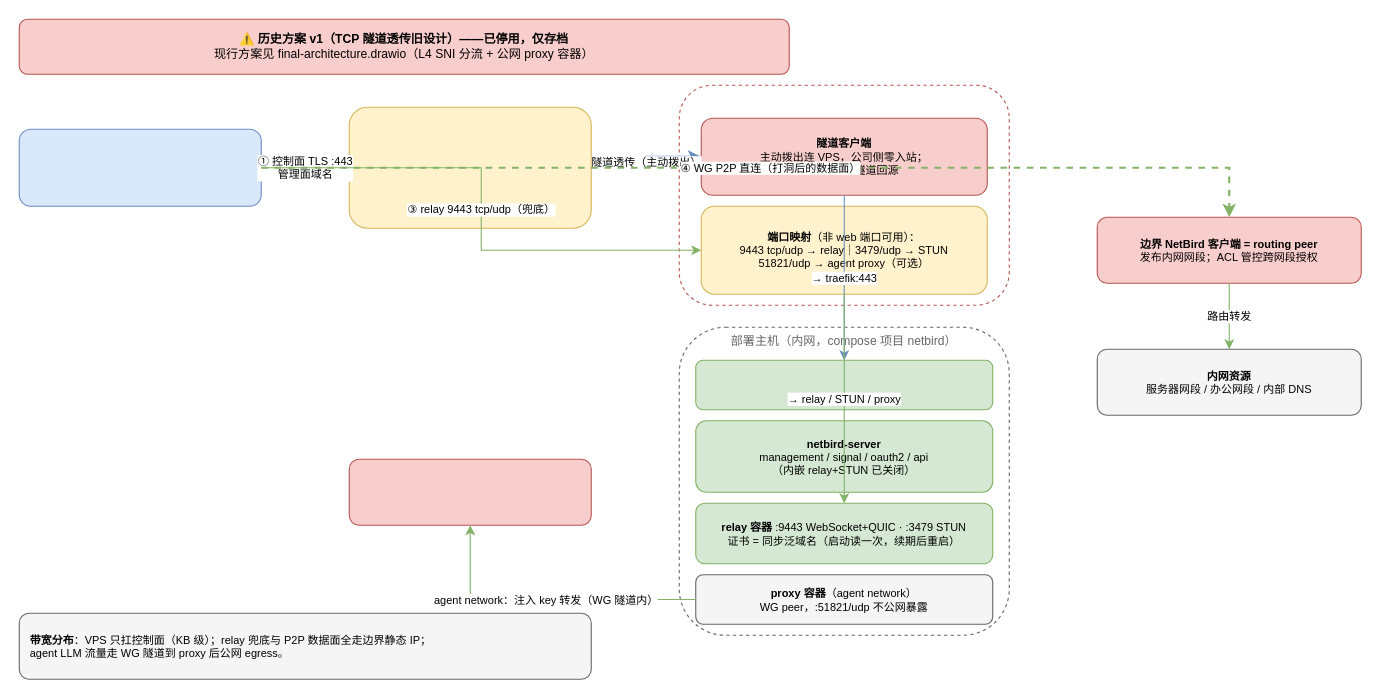
Some shapes in this 1381 by 699 pixel diagram are drawn without their labels. The box of each missing label's shape, as (x1, y1, x2, y2) in pixels:
traefik :443 固定证书（边缘同步）: (695, 359, 993, 410)
上游 LLM API OpenAI / Anthropic / 网关: (348, 458, 591, 525)
公司边界防火墙（静态 IP；v1 假定 ISP 封 443/80 入站）: (678, 84, 1009, 305)
公网 VPS （v1 方案） 仅 TCP 443 纯透传 TLS 不终结 · SNI 原样 （小规格足够，只扛控制面）: (348, 106, 591, 228)
外部 peer 员工笔记本 / agent 设备 （NetBird Client）: (18, 128, 261, 206)
